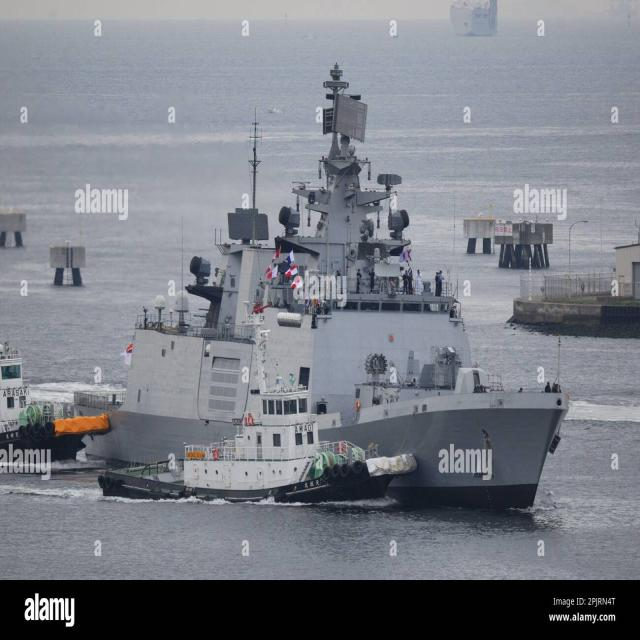Frigate-Shivalik-Class-IND: (81, 59, 570, 512)
